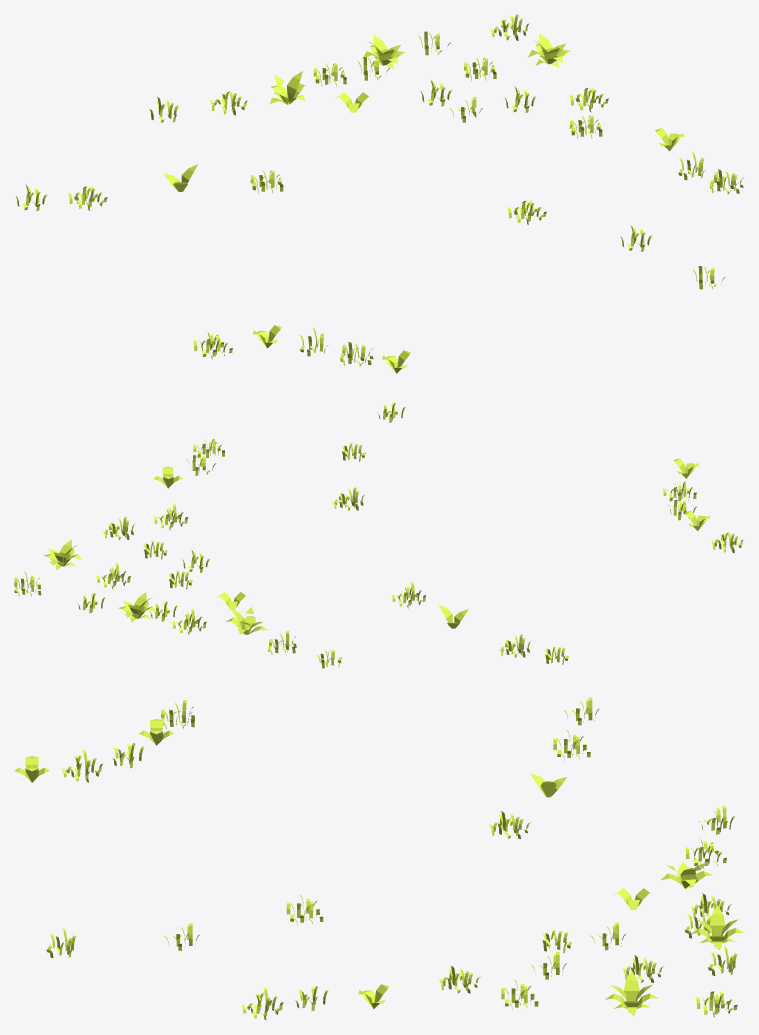
The model's file is Tile_Road_Turn_Grass.fbx.
The picture shows the model from 3 angles, top to bottom: view 1: azimuth 30°, elevation 25°; view 2: azimuth 150°, elevation 25°; view 3: azimuth 270°, elevation 25°; orthographic projection. The views are drawn at different scales.
Visible parts, largest first — view 1: plant_bushDetailed.003; view 2: plant_bushDetailed.003; view 3: plant_bushDetailed.003.
Part boxes in pixels (x1,y1,x2,y2): plant_bushDetailed.003: (15,14,744,373); plant_bushDetailed.003: (14,402,743,668); plant_bushDetailed.003: (14,697,743,1020).
Bounding box in the file's own units: 246 × 11.92 × 249.
